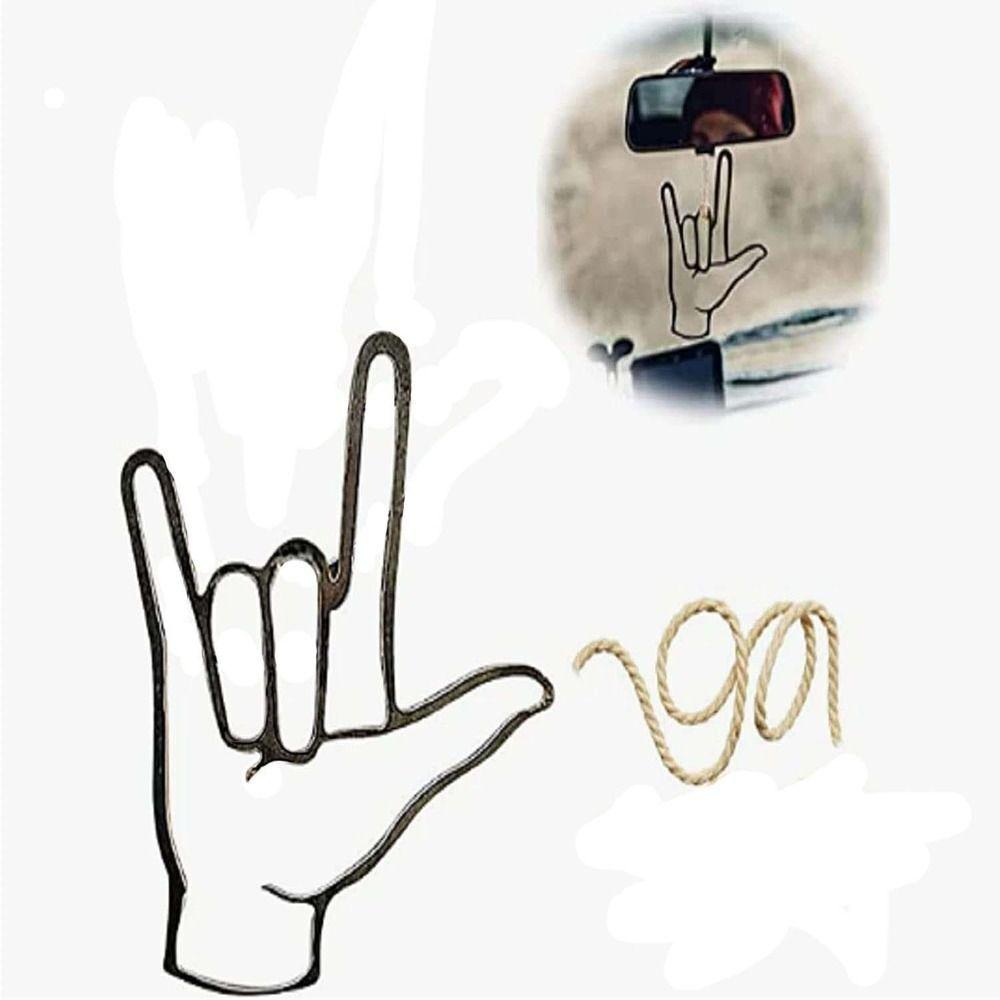Love_you: (110, 320, 562, 1000)
